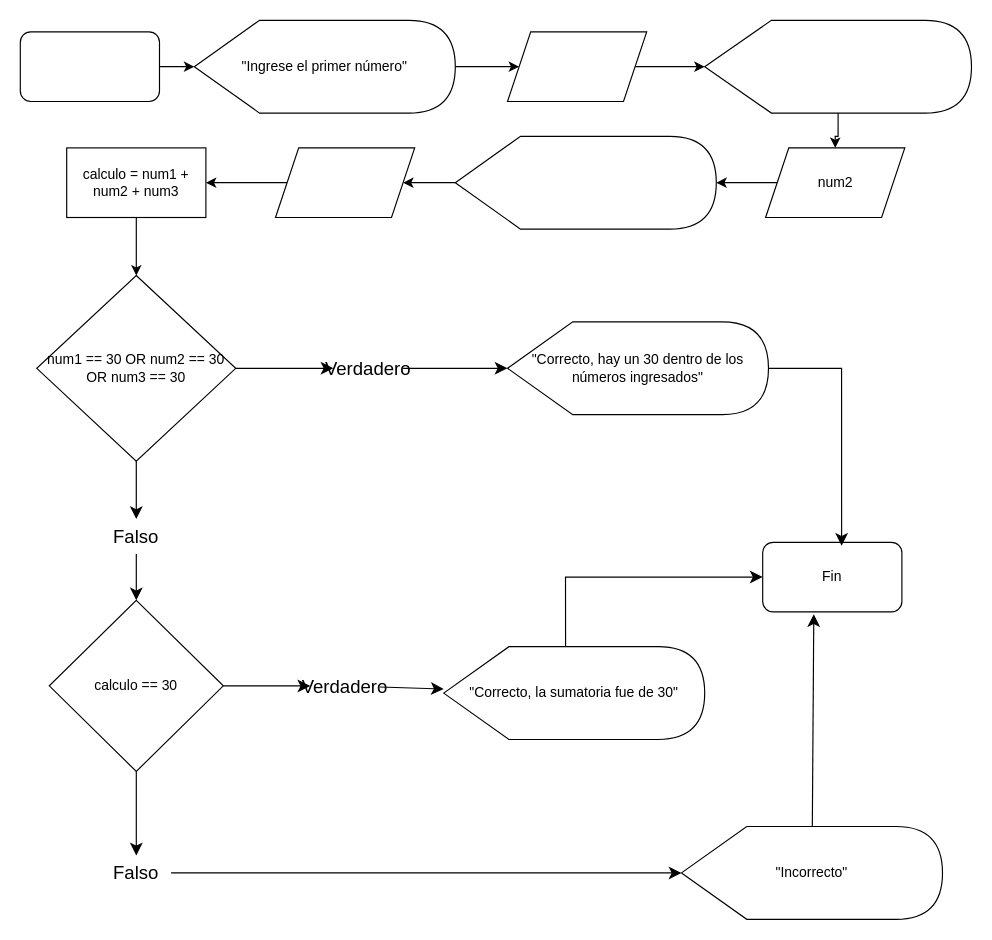
The diagram is 992 pixels wide and 940 high, and some of its shapes have lost their labels. The centre of each missing label's shape, as x and y in pixels:
"Ingrese el segundo número": point 837,66
"Ingrese el tercer número": point 585,182
Inicio: point 89,66
num1: point 576,66
num3: point 344,182
